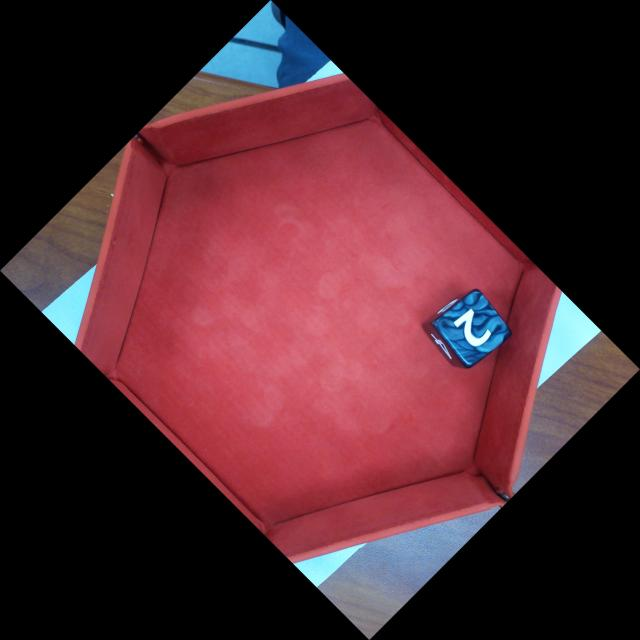dice: (429, 286, 516, 371)
